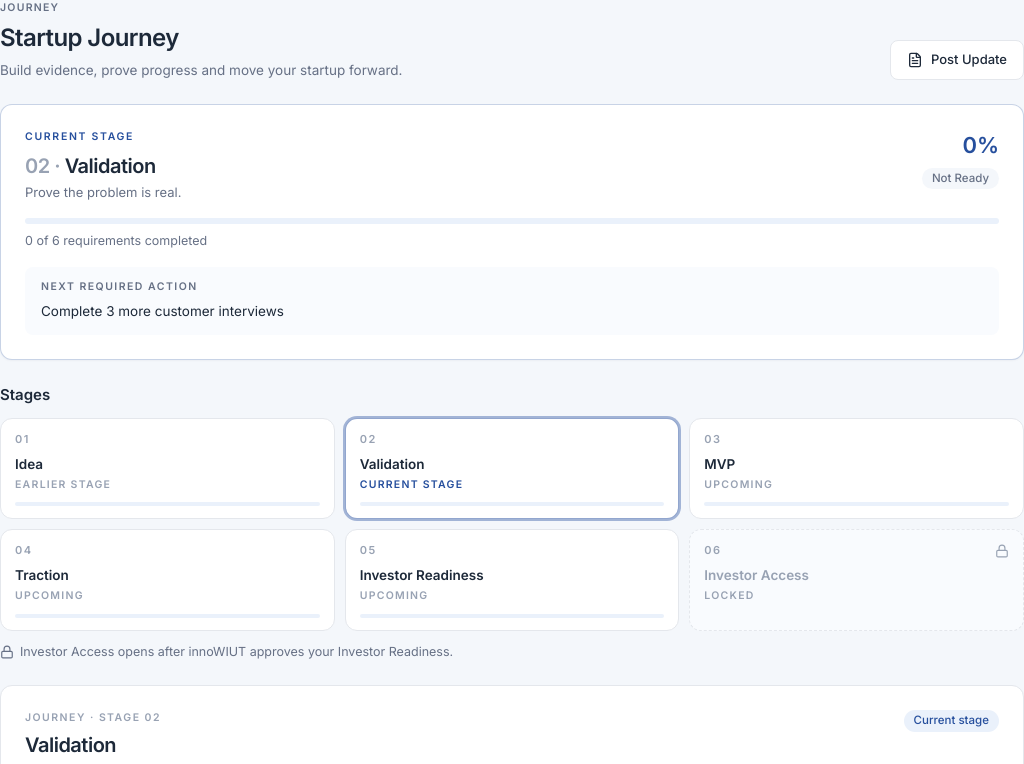
Test: JourneyPage › shows Investor Readiness as upcoming and Investor Access as locked
Expected: the list named "Journey stages" is shown, [0,418,1023,631]
Expected: the element named "Investor Access — Locked" is shown, [689,529,1023,630]
Step 1. Click the button with aria-label "Investor Readiness — Upcoming" → (422, 575), box [345,529,679,630]
(page scrolled)
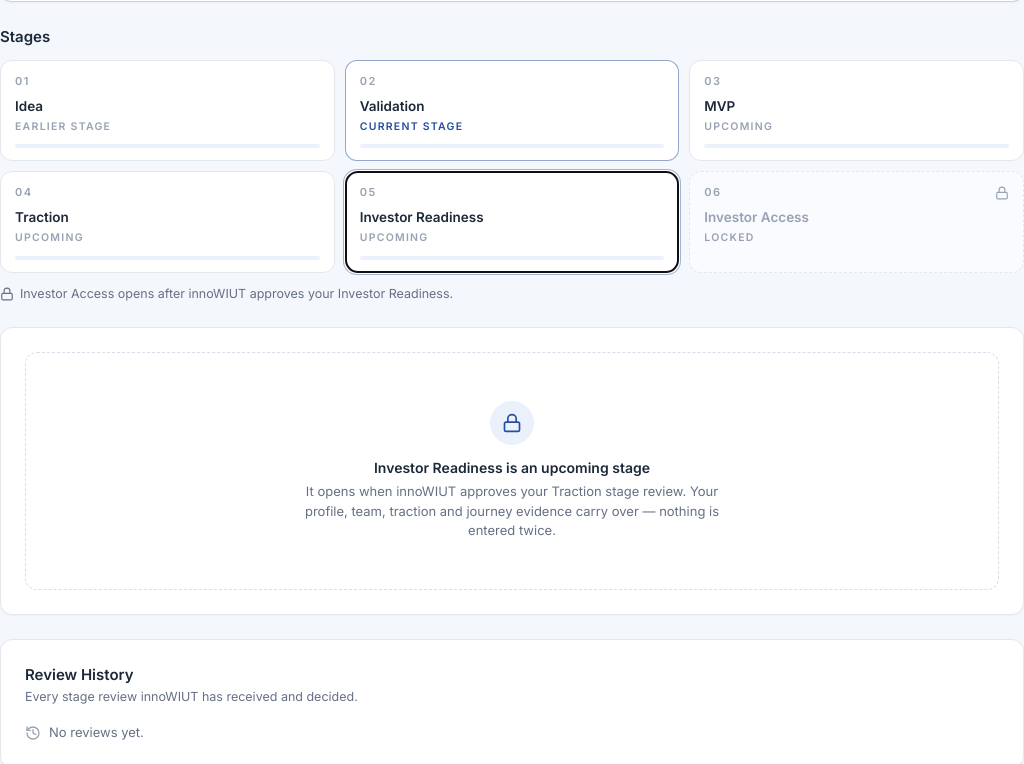
Expected: the text "Investor Readiness is an upcoming stage" is shown, [374,457,650,478]
